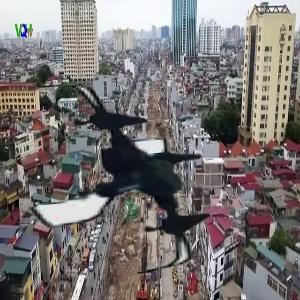drone: (1, 70, 220, 289)
